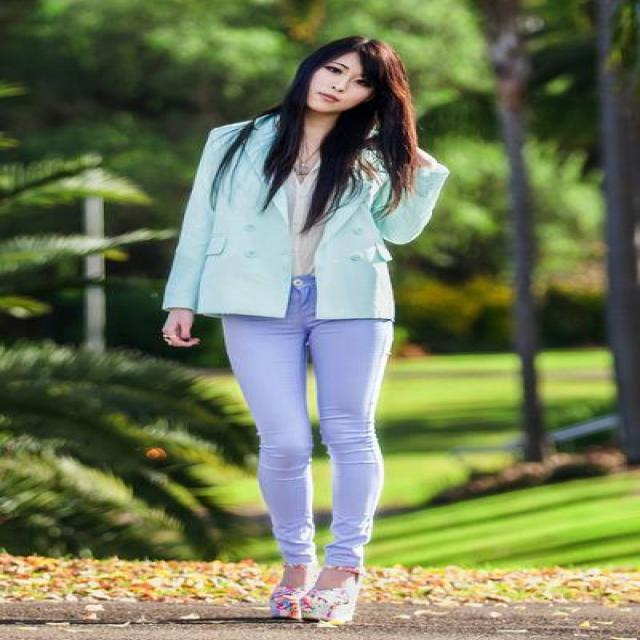jacket: (163, 119, 448, 319)
pants: (211, 269, 394, 575)
shirt: (272, 166, 336, 286)
